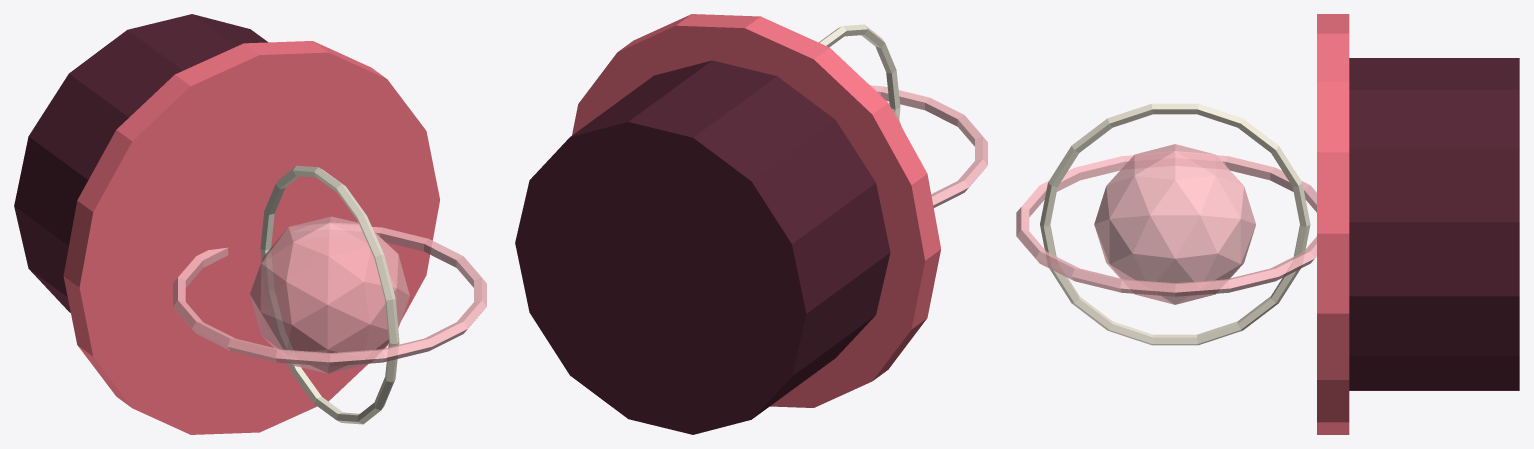
The model's file is 09_high_tier_relic_pedestal.glb.
The picture shows the model from 3 angles, left to right: view 1: azimuth 30°, elevation 25°; view 2: azimuth 150°, elevation 25°; view 3: azimuth 270°, elevation 25°; orthographic projection.
Parts seen in each view (by area): view 1: top_rim, relic_pedestal, floating_relic_core, relic_orbit_a, relic_orbit_b; view 2: relic_pedestal, top_rim, relic_orbit_a, relic_orbit_b; view 3: relic_pedestal, floating_relic_core, top_rim, relic_orbit_b, relic_orbit_a.
Part boxes in pixels (<box>): top_rim: <box>63,41,439,434</box>; relic_pedestal: <box>14,14,267,312</box>; floating_relic_core: <box>250,216,409,373</box>; relic_orbit_a: <box>173,226,486,366</box>; relic_orbit_b: <box>260,165,399,424</box>; relic_pedestal: <box>515,60,890,434</box>; top_rim: <box>572,14,940,407</box>; relic_orbit_a: <box>871,85,987,207</box>; relic_orbit_b: <box>819,24,900,119</box>; relic_pedestal: <box>1349,58,1519,390</box>; floating_relic_core: <box>1094,144,1255,304</box>; top_rim: <box>1317,14,1349,434</box>; relic_orbit_b: <box>1040,103,1310,345</box>; relic_orbit_a: <box>1016,155,1316,296</box>.
Size of the model in its own units: 1.04 by 1.04 by 1.24.
